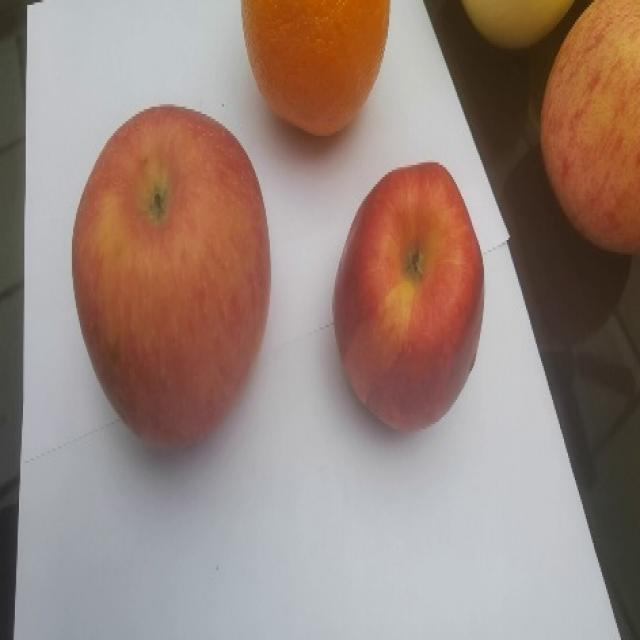Apple: (66, 100, 276, 452), (330, 159, 488, 437), (541, 0, 640, 261)
Orange: (237, 0, 396, 144)
